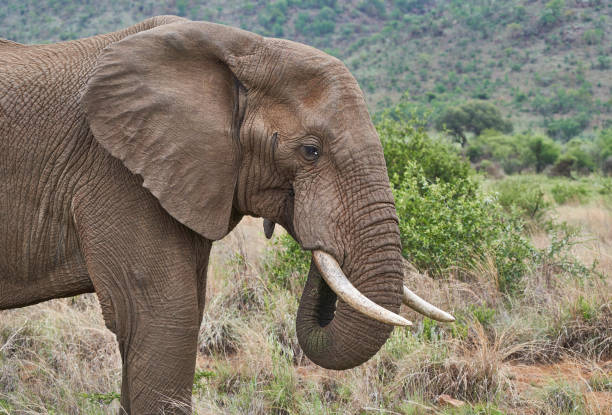africanelephant: (192, 54, 464, 366)
